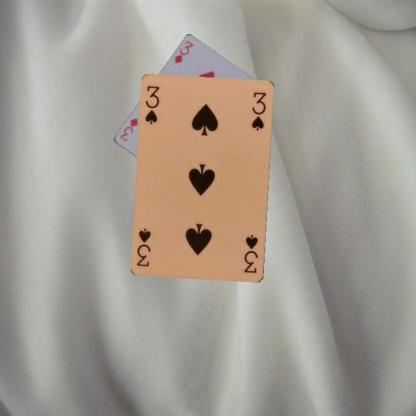3d: (172, 38, 195, 65)
3s: (242, 232, 260, 274), (142, 84, 160, 126)
